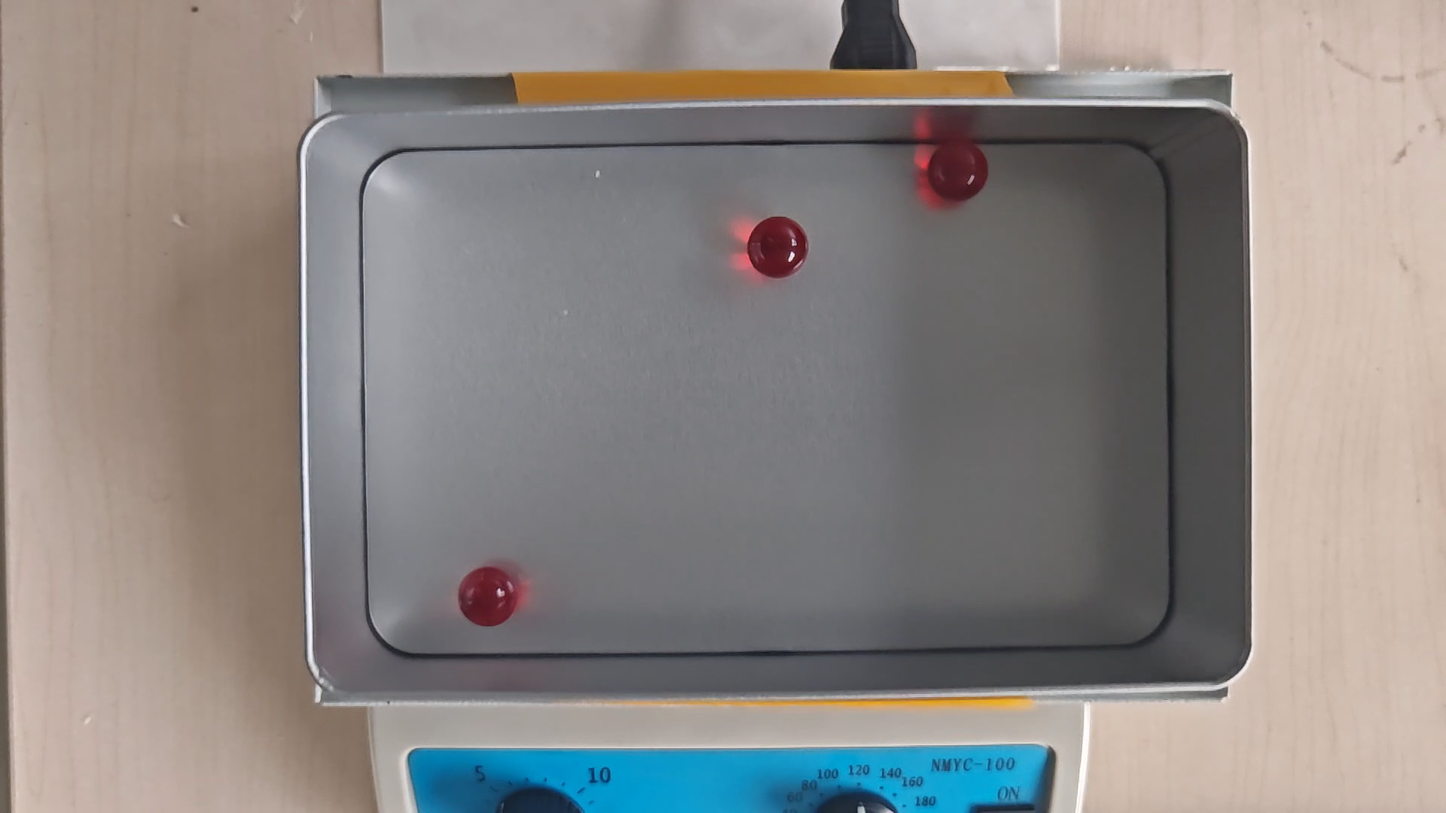ball: (746, 215, 809, 280), (927, 139, 989, 200), (457, 568, 522, 626)
container: (356, 142, 1177, 654)
